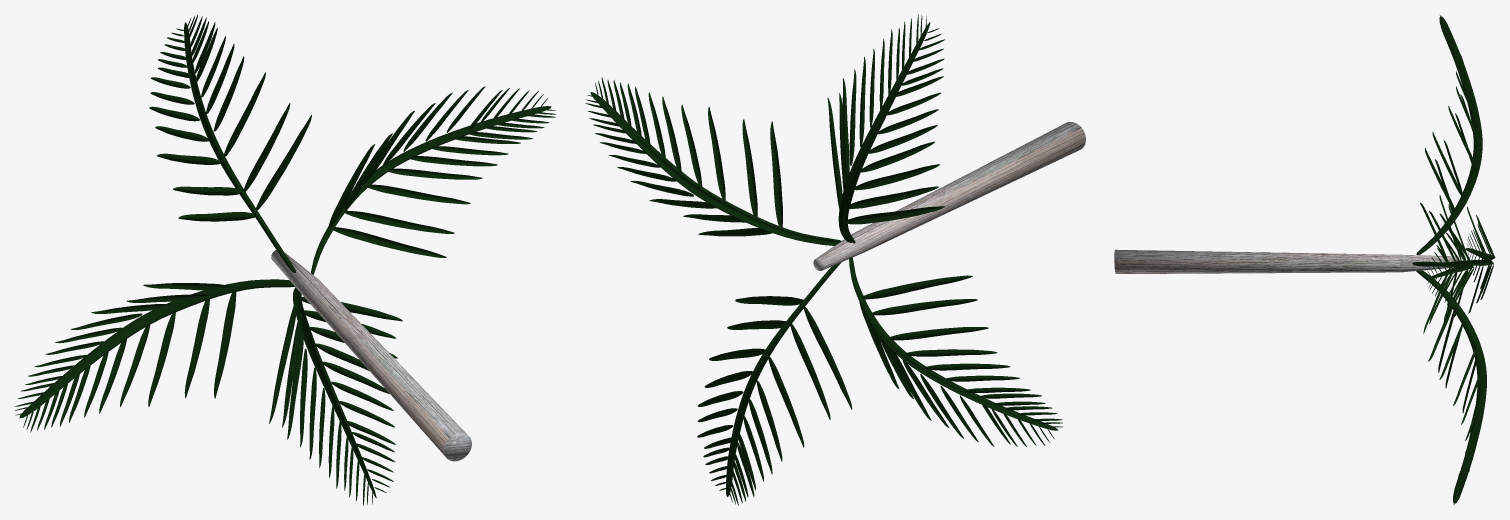
The picture shows the model from 3 angles, left to right: view 1: azimuth 30°, elevation 25°; view 2: azimuth 150°, elevation 25°; view 3: azimuth 270°, elevation 25°; orthographic projection. The views are drawn at different scales.
Visible parts, largest first — view 1: Plane.003_Plane.093, Cylinder_Cylinder.003; view 2: Plane.003_Plane.093, Cylinder_Cylinder.003; view 3: Plane.003_Plane.093, Cylinder_Cylinder.003.
Part boxes in pixels (<box>): Plane.003_Plane.093: <box>14,14,556,505</box>; Cylinder_Cylinder.003: <box>271,250,471,461</box>; Plane.003_Plane.093: <box>585,14,1062,505</box>; Cylinder_Cylinder.003: <box>813,122,1085,270</box>; Plane.003_Plane.093: <box>1412,15,1495,504</box>; Cylinder_Cylinder.003: <box>1114,249,1458,273</box>.
Bounding box in the file's own units: 7.61 × 7.62 × 6.26.
Materials: 2 (1 with a texture image).
